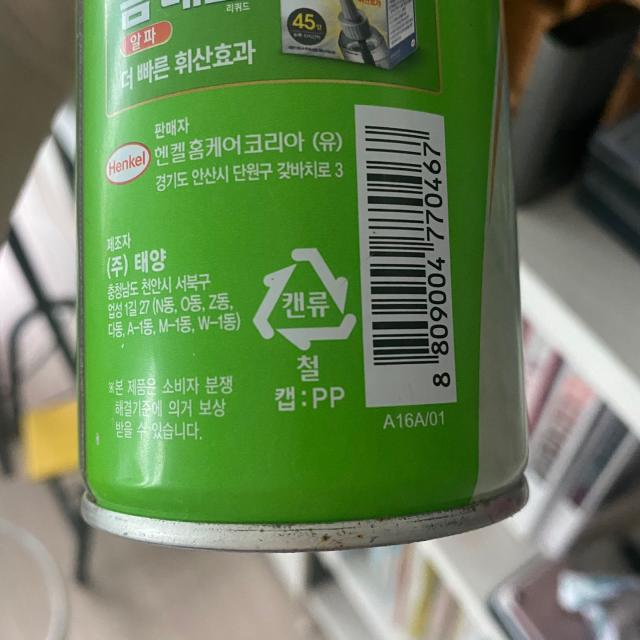Can: (246, 242, 360, 352)
